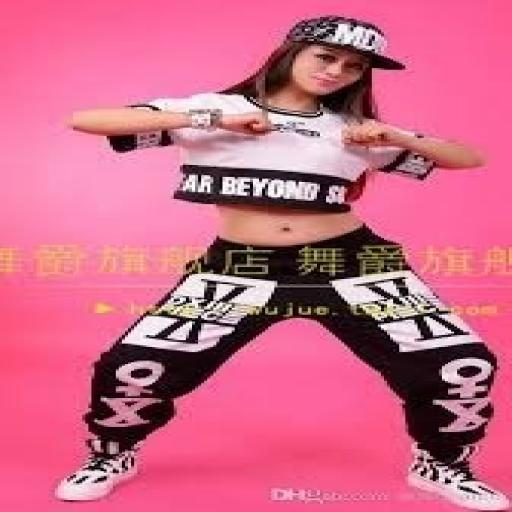dancing: (52, 14, 509, 510)
